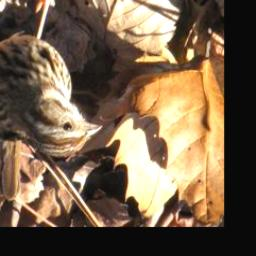Sparrow: (0, 0, 106, 159)
